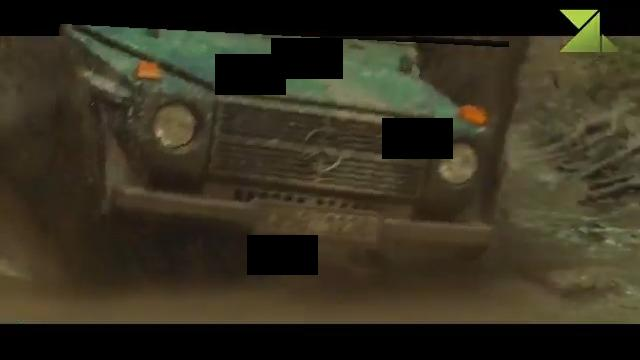MIL_HMMWV: (51, 24, 507, 270)
